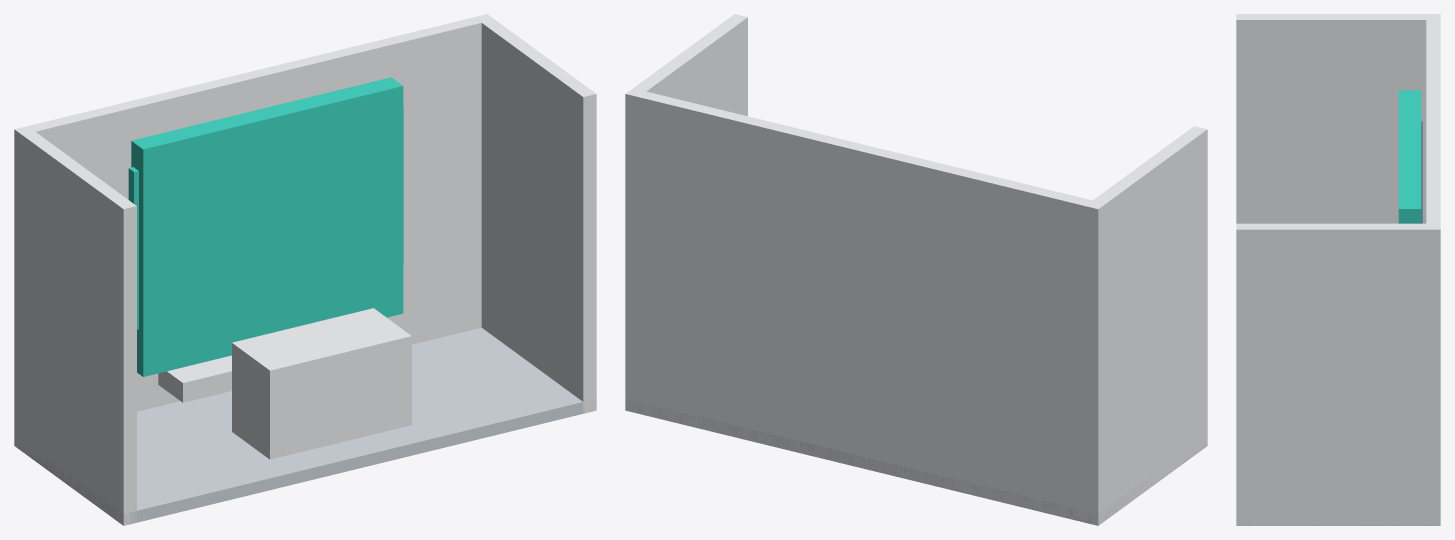
3 renders of one model, left to right at view 1: azimuth 30°, elevation 25°; view 2: azimuth 150°, elevation 25°; view 3: azimuth 270°, elevation 25°, orthographic. The views are drawn at different scales.
Visible parts, largest first — view 1: Exhibition Booth Concept; view 2: Exhibition Booth Concept; view 3: Exhibition Booth Concept.
Part boxes in pixels (box(x1,y1,x2,y2)): Exhibition Booth Concept: box(14, 14, 596, 525); Exhibition Booth Concept: box(625, 14, 1207, 525); Exhibition Booth Concept: box(1236, 14, 1440, 525).
Size of the model in its own units: 5 by 3.2 by 2.
